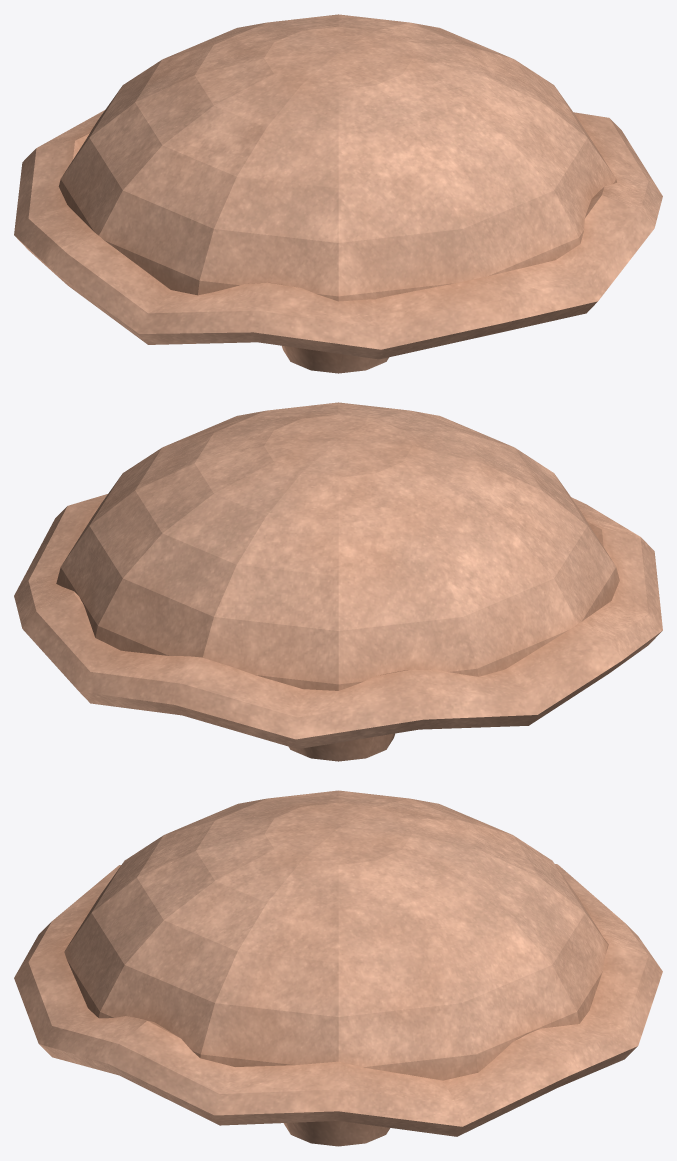
File: mushroom.fbx
The picture shows the model from 3 angles, top to bottom: view 1: azimuth 30°, elevation 25°; view 2: azimuth 150°, elevation 25°; view 3: azimuth 270°, elevation 25°; orthographic projection.
Parts seen in each view (by area): view 1: mushroom_geo; view 2: mushroom_geo; view 3: mushroom_geo.
Part boxes in pixels (x1=…): mushroom_geo: x1=14, y1=14, x2=662, y2=373; mushroom_geo: x1=14, y1=402, x2=662, y2=761; mushroom_geo: x1=14, y1=790, x2=662, y2=1146.
Size of the model in its own units: 8.53 by 4.28 by 8.53.
